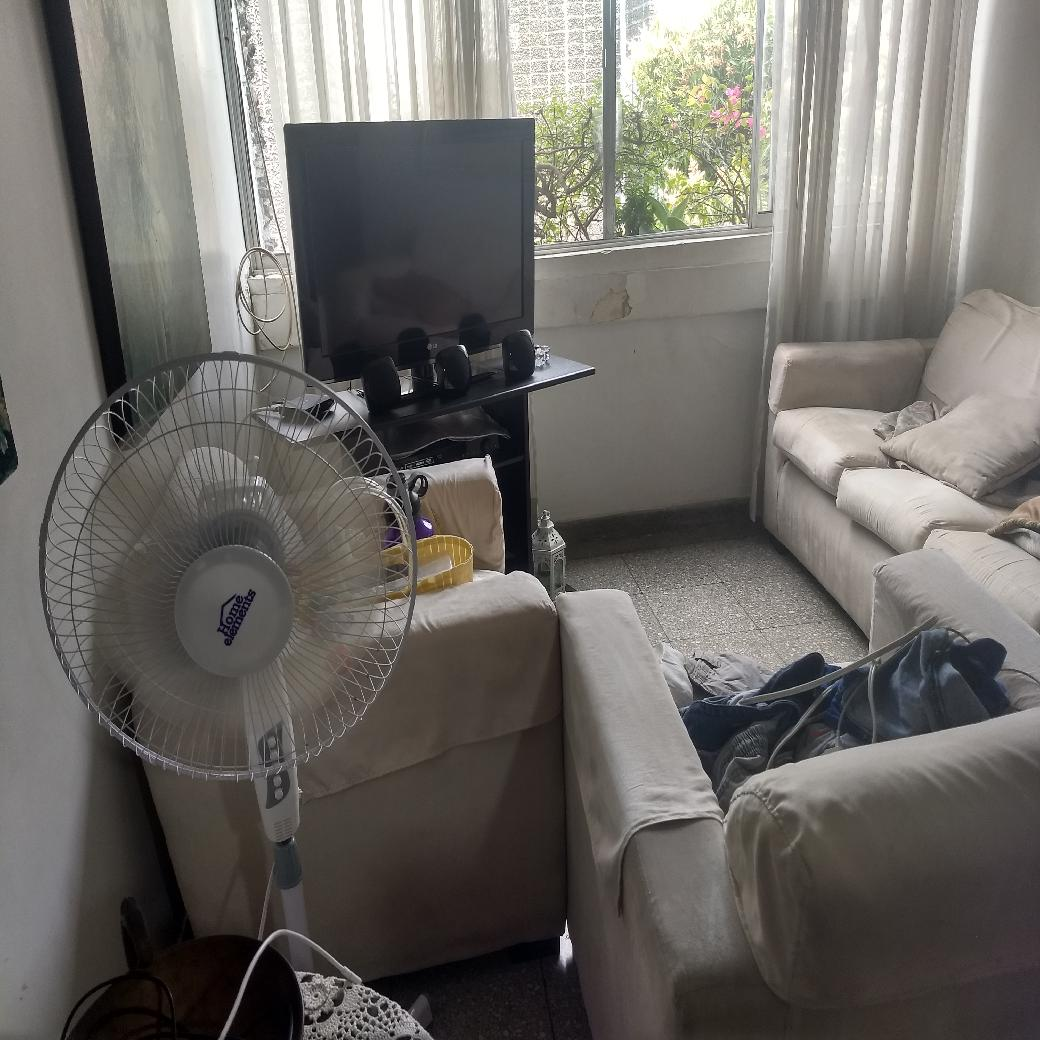tv: (282, 123, 537, 353)
ventilador: (23, 351, 420, 792)
